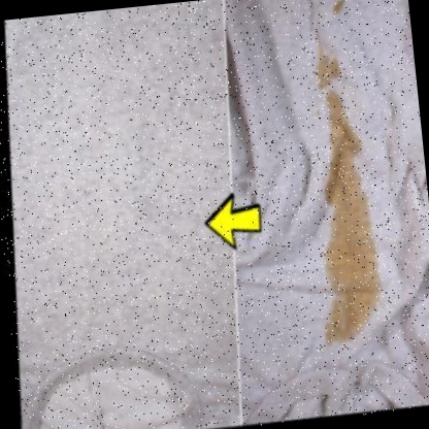coffee: (318, 171, 382, 332), (329, 104, 348, 166)
